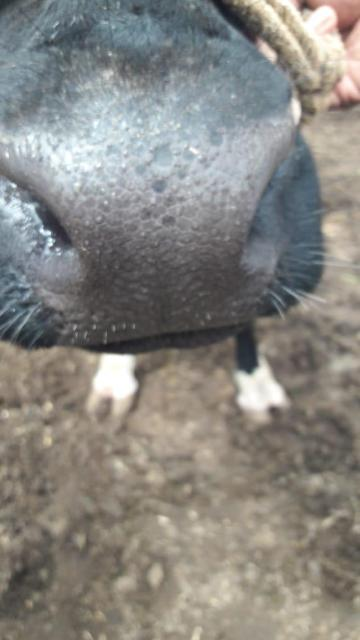Muzzle: (18, 130, 276, 324)
